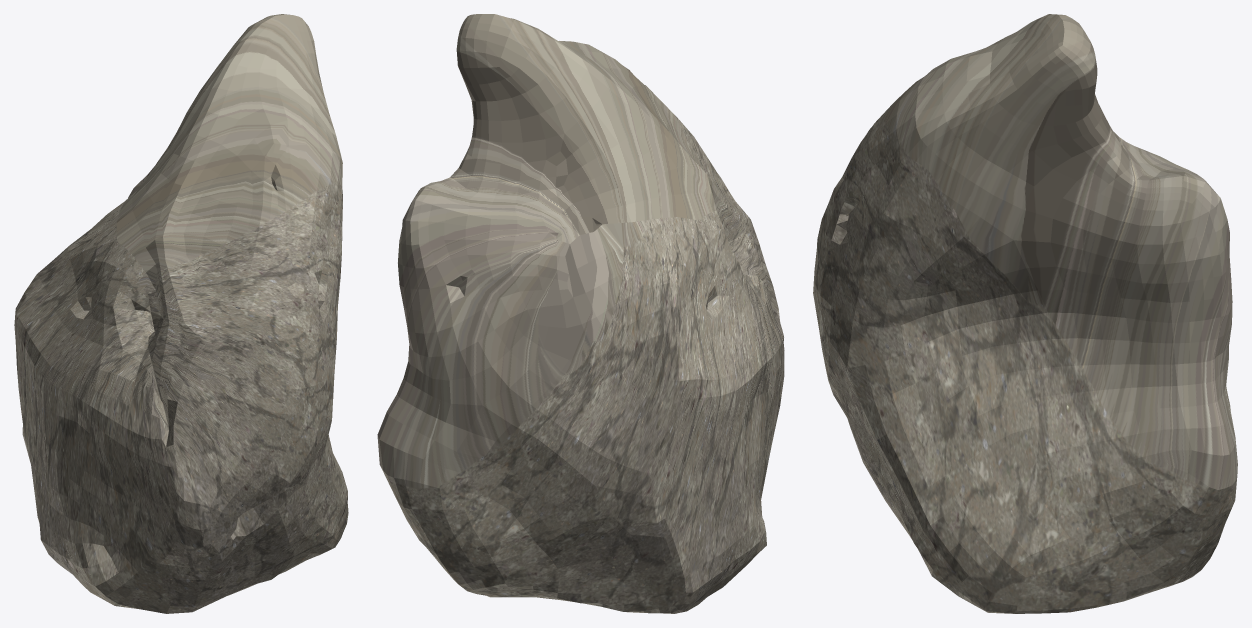
File: rock_6.fbx
3 renders of one model, left to right at view 1: azimuth 30°, elevation 25°; view 2: azimuth 150°, elevation 25°; view 3: azimuth 270°, elevation 25°, orthographic. The views are drawn at different scales.
Visible parts, largest first — view 1: Rock_6_remeshed_uv_low2:ZBrush_defualt_group4; view 2: Rock_6_remeshed_uv_low2:ZBrush_defualt_group4; view 3: Rock_6_remeshed_uv_low2:ZBrush_defualt_group4.
Boxes of the visible parts, x1,y1,x2,y2 form: Rock_6_remeshed_uv_low2:ZBrush_defualt_group4: [14, 14, 348, 613]; Rock_6_remeshed_uv_low2:ZBrush_defualt_group4: [377, 14, 784, 613]; Rock_6_remeshed_uv_low2:ZBrush_defualt_group4: [813, 14, 1237, 613].
Bounding box in the file's own units: 3.51 × 6.46 × 4.12.
